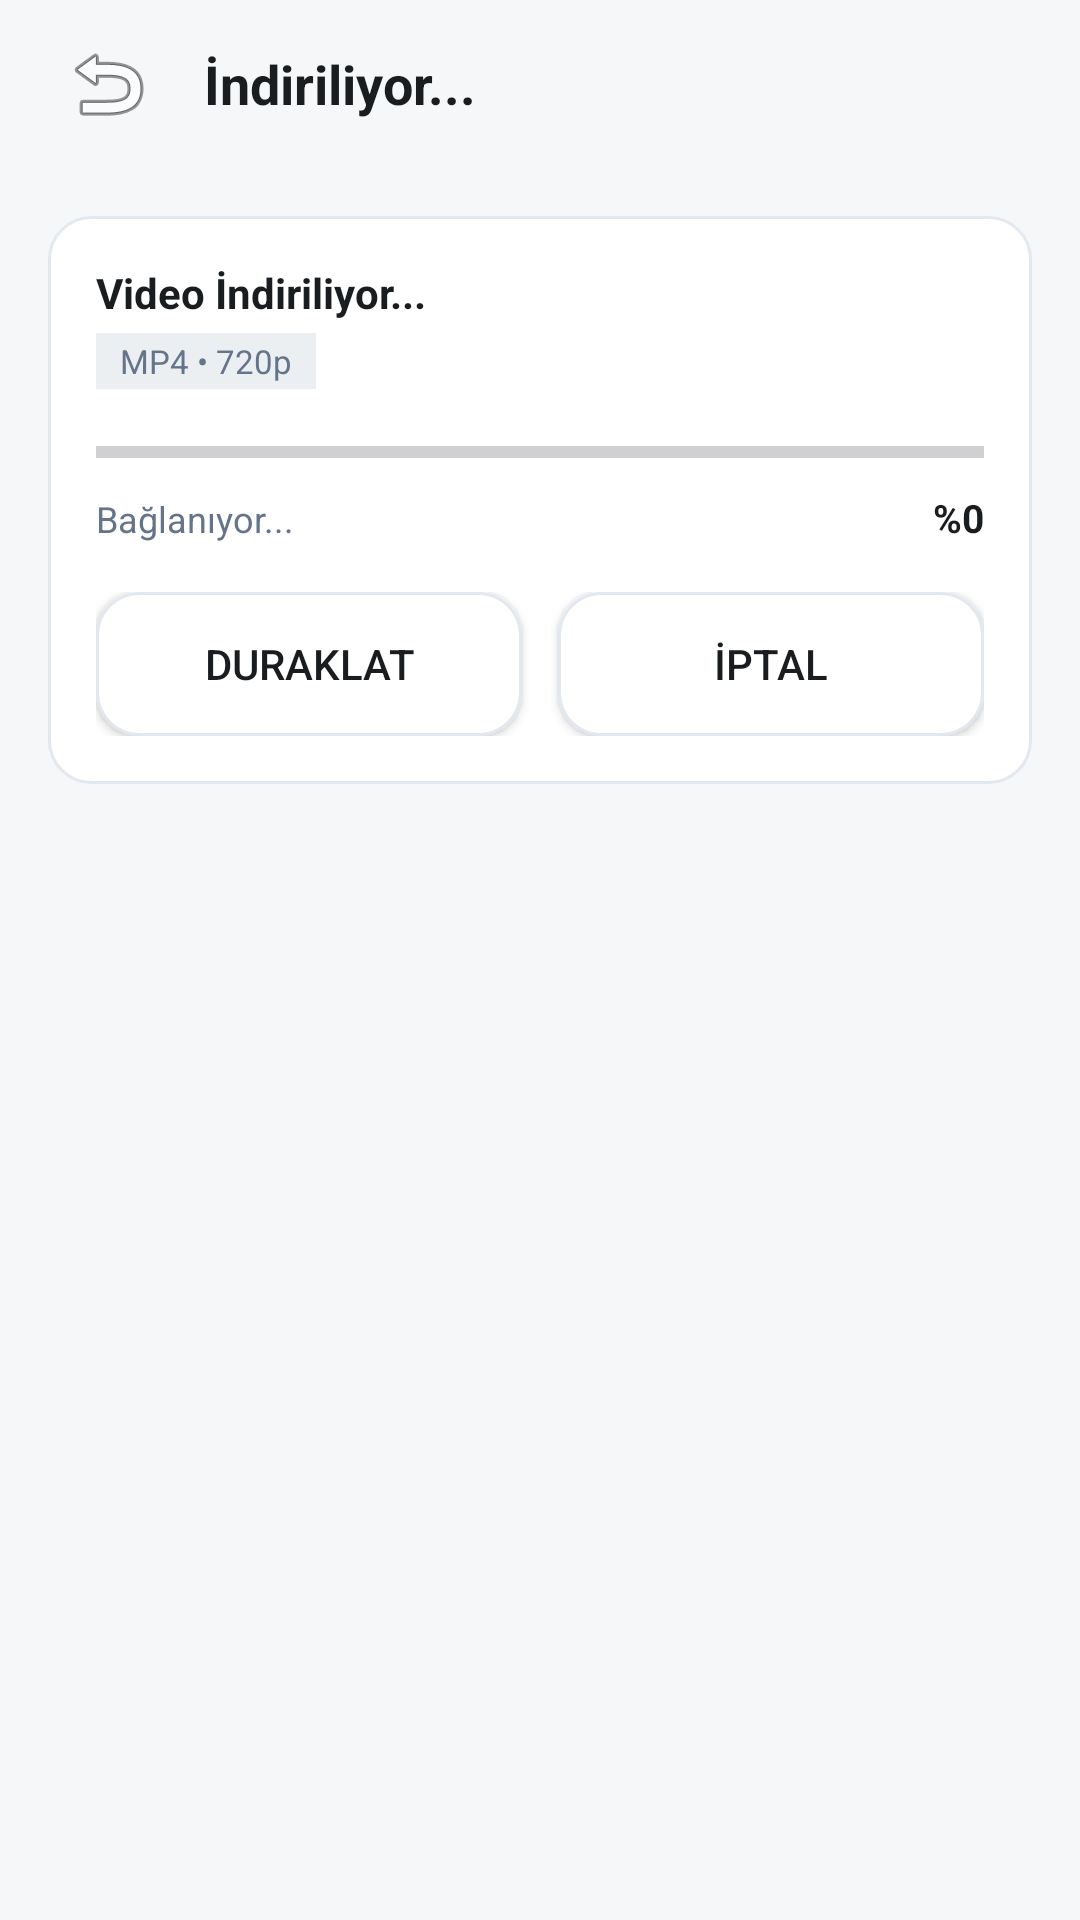

Named icons in this screenshot (1080 x 1920) and their centers, (x=x, y=y):
revert: (x=109, y=84)
